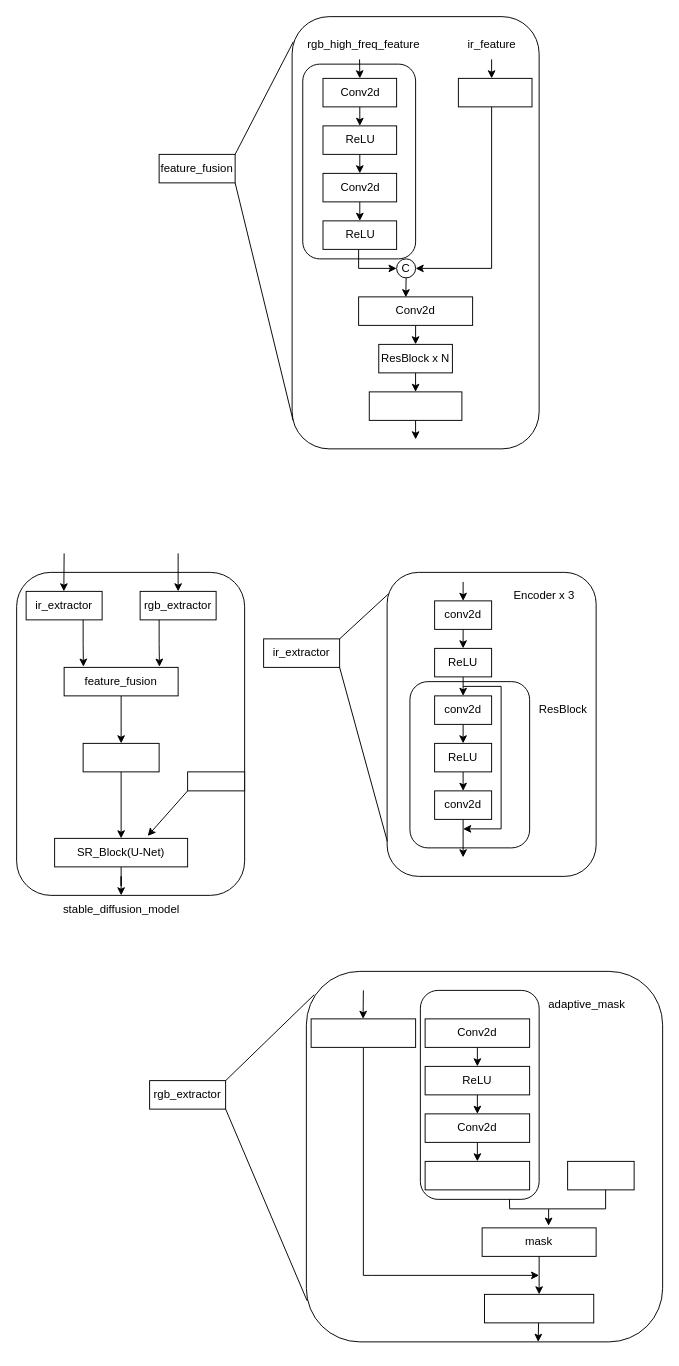
The diagram is 679 pixels wide and 1366 high, and some of its shapes have lost their labels. The shapes that lost their labels are listed below. From the top down, each one's box as (x1, y1, x2, y2) in pixels, then its label:
(457, 77, 532, 107): Upsample
(368, 391, 462, 420): ChannelAtention
(82, 742, 159, 772): up_sample
(187, 771, 245, 791): gr_ir
(310, 1018, 416, 1047): DFT
(424, 1160, 530, 1190): Sigmod
(567, 1160, 634, 1190): base_mask
(484, 1293, 594, 1323): high_freq_feature
